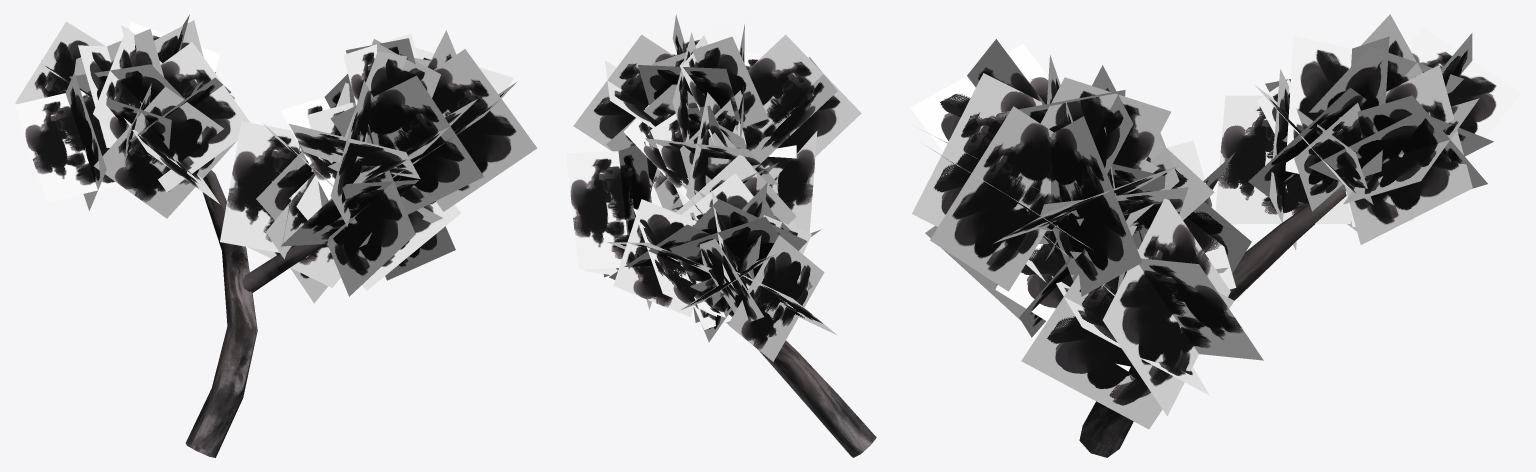
Rendered from Tree_C_freezed.fbx.
3 views of the same model, side by side, from view 1: azimuth 30°, elevation 25°; view 2: azimuth 150°, elevation 25°; view 3: azimuth 270°, elevation 25° (orthographic). The views are drawn at different scales.
Parts seen in each view (by area): view 1: leafCB, leafCB1, leafCA1, leafCA, Tree_C_trunk; view 2: leafCB1, leafCB, leafCA1, leafCA, Tree_C_trunk; view 3: leafCB1, leafCB, leafCA, leafCA1, Tree_C_trunk.
Boxes of the visible parts, box(x1,y1,x2,y2) form: leafCB: box(220, 30, 537, 303); leafCB1: box(256, 39, 483, 280); leafCA1: box(14, 14, 250, 210); leafCA: box(15, 20, 236, 218); Tree_C_trunk: box(185, 170, 327, 457); leafCB1: box(566, 24, 861, 309); leafCB: box(573, 14, 817, 323); leafCA1: box(607, 173, 837, 361); leafCA: box(609, 182, 821, 341); Tree_C_trunk: box(712, 283, 876, 457); leafCB1: box(910, 39, 1263, 429); leafCB: box(920, 65, 1251, 337); leafCA: box(1215, 28, 1521, 250); leafCA1: box(1248, 14, 1487, 231); Tree_C_trunk: box(1047, 184, 1346, 457).
Size of the model in its own units: 225 by 233 by 263.
